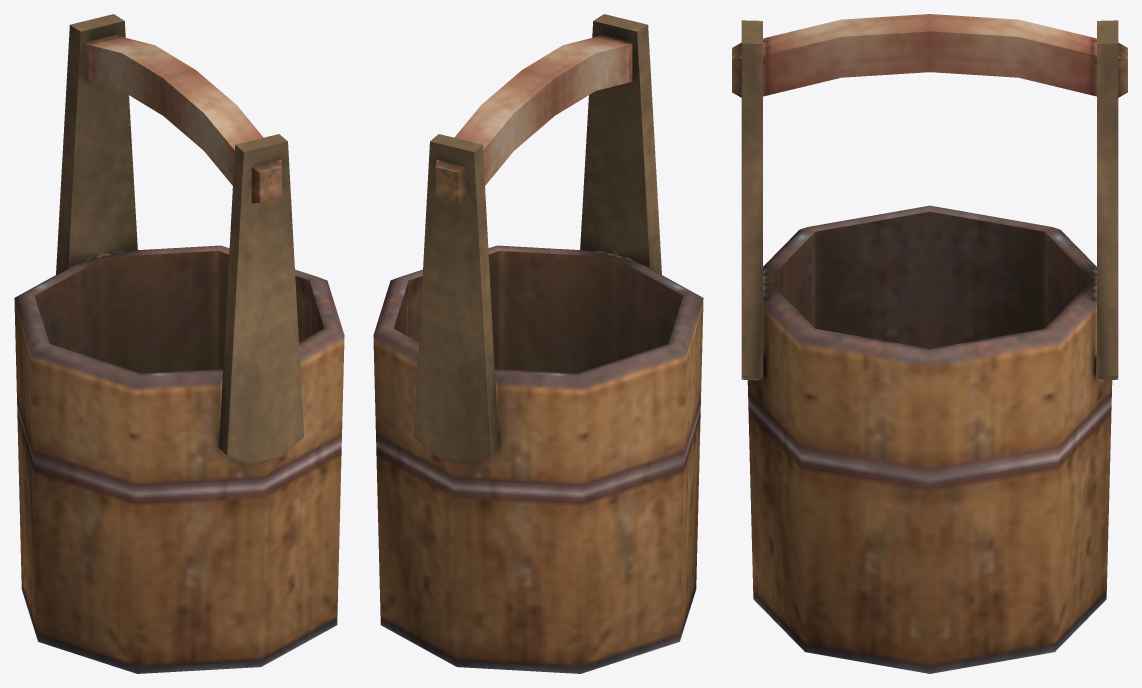
The model's file is BambooBucket.FBX.
3 renders of one model, left to right at view 1: azimuth 30°, elevation 25°; view 2: azimuth 150°, elevation 25°; view 3: azimuth 270°, elevation 25°, orthographic. The views are drawn at different scales.
Visible parts, largest first — view 1: bamboo bucket; view 2: bamboo bucket; view 3: bamboo bucket.
Part boxes in pixels (bbox=[...]): bamboo bucket: bbox=[14, 14, 344, 673]; bamboo bucket: bbox=[373, 14, 703, 673]; bamboo bucket: bbox=[732, 14, 1127, 673].
Size of the model in its own units: 14.22 by 24.49 by 15.23.
